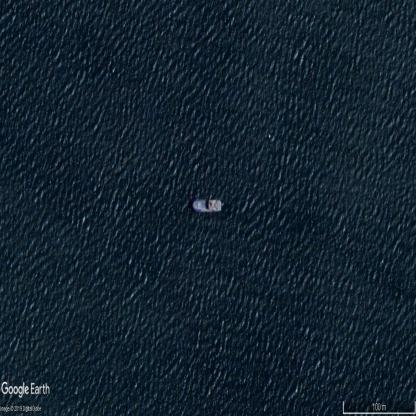ship: (193, 199, 222, 211)
